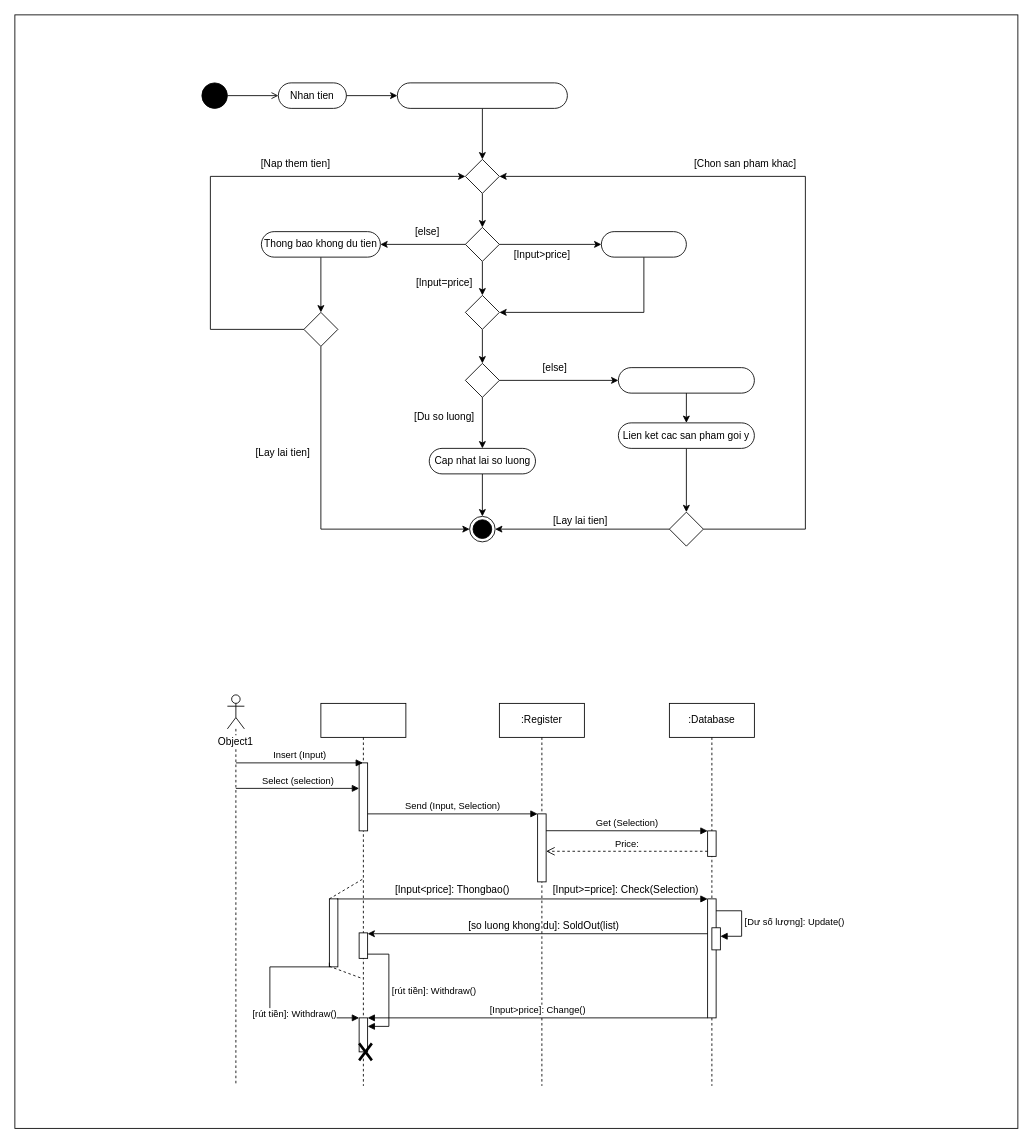
Some shapes in this 1033 by 1143 pixel diagram are drawn without their labels. Here are the shapes that lost their labels. From the top down, the box of each, then its label:
(397, 82, 567, 108): Nhan thong tin san pham
(601, 231, 686, 257): Tinh so tien du
(618, 367, 754, 393): Thong bao "SOLD OUT"
(320, 703, 406, 1086): :Màn hình
